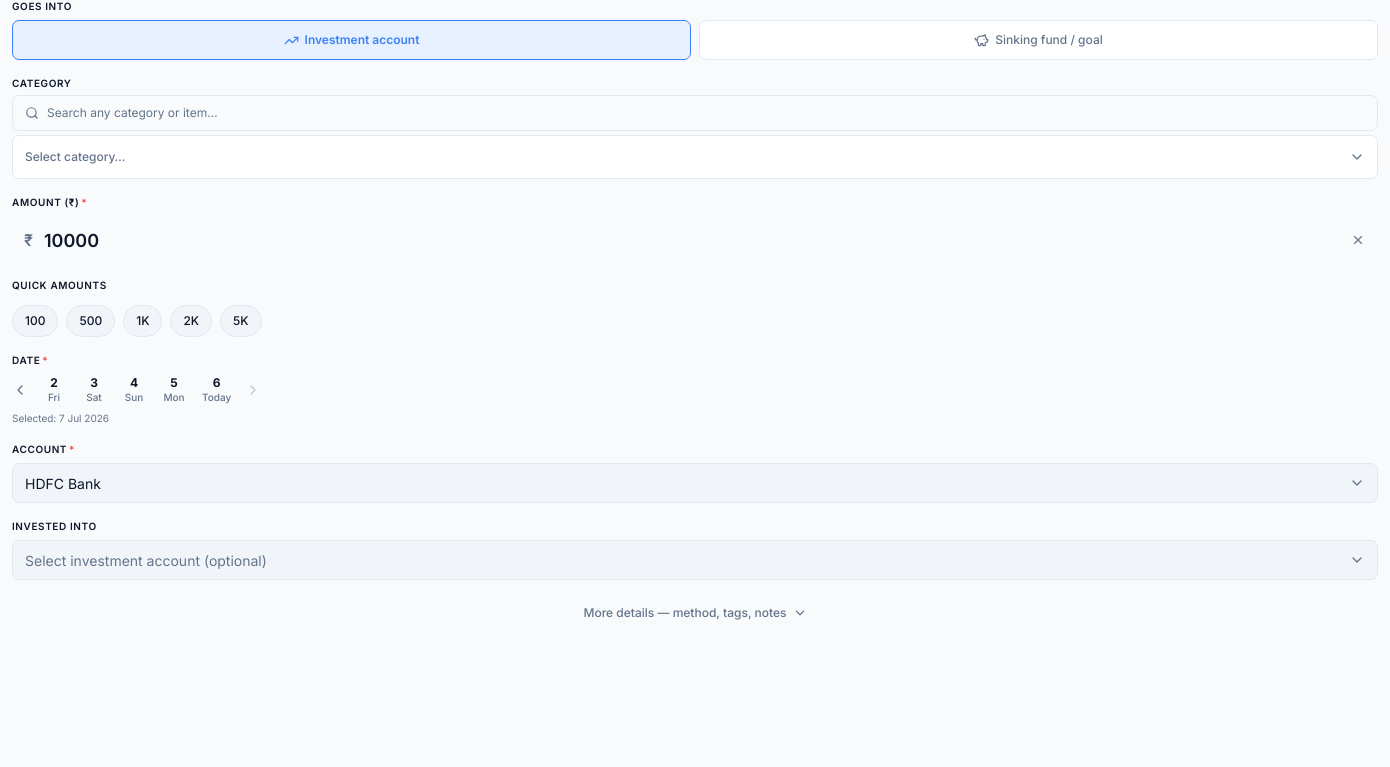
Test: InvestmentForm — Investment account destination › still renders Tags and Notes once "More details" is expanded
This screenshot has width=1390, height=767.
Click the button "More details — method, tags, notes" at [695, 613], box [12, 596, 1378, 630]
(page scrolled)
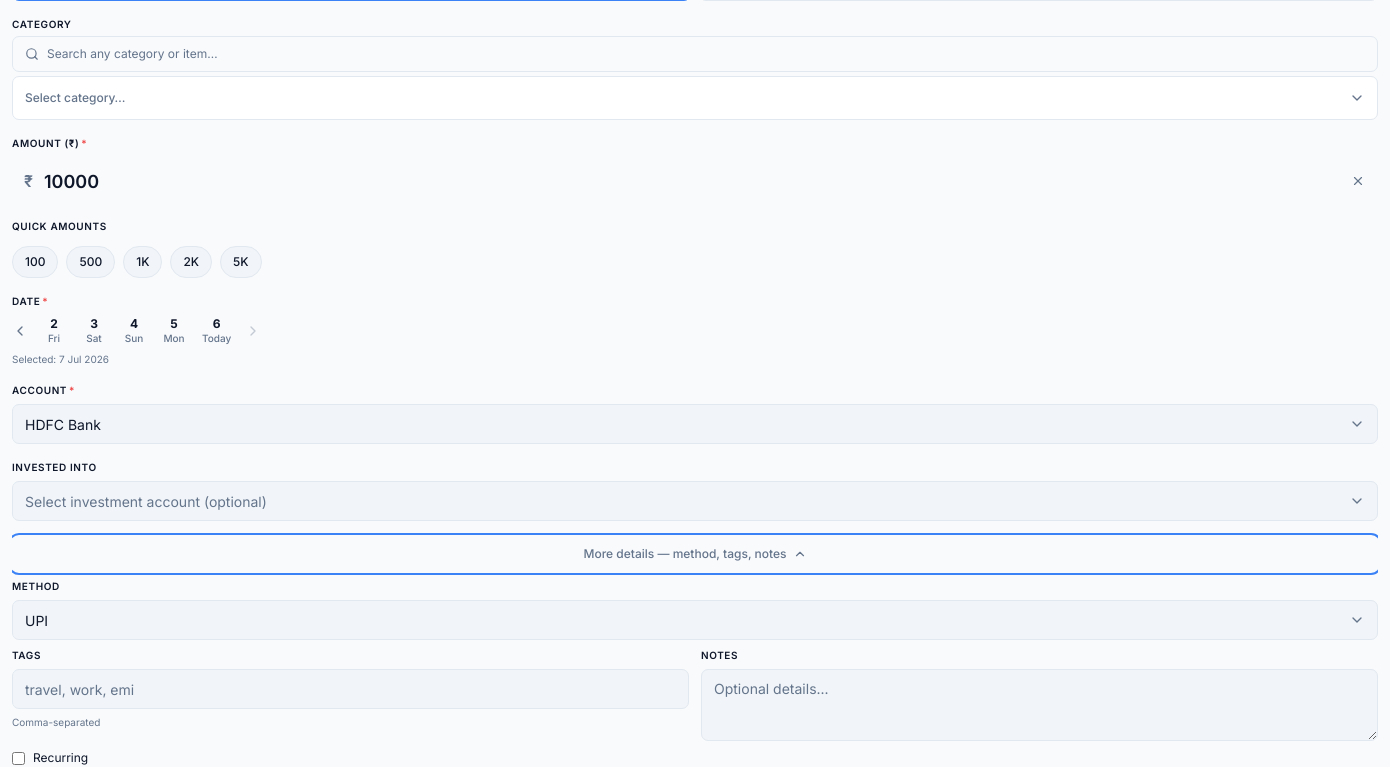
Expected: the field labelled "Tags" is shown, [12, 669, 689, 709]
Expected: the text box labelled "Notes" is shown, [701, 669, 1378, 741]
